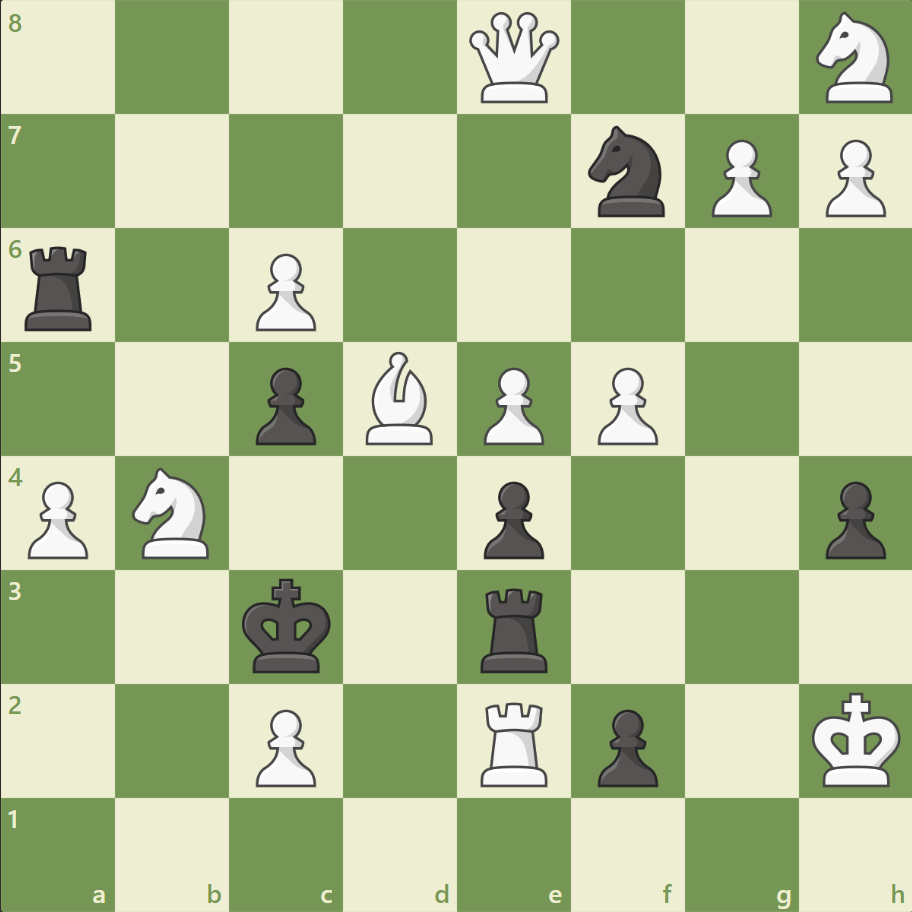B: (358, 347, 442, 449)
K: (806, 685, 906, 793)
N: (124, 461, 222, 564), (806, 7, 903, 110)
P: (701, 132, 776, 223), (247, 246, 322, 337), (474, 359, 549, 450), (20, 473, 95, 564), (247, 700, 322, 791), (815, 132, 889, 223), (588, 359, 662, 450)
Q: (464, 9, 563, 108)
R: (473, 693, 556, 790)
k: (238, 571, 338, 679)
n: (579, 121, 676, 223)
p: (247, 359, 322, 450), (474, 473, 549, 564), (815, 473, 889, 564), (588, 700, 662, 791)
r: (19, 239, 102, 336), (473, 579, 556, 676)
